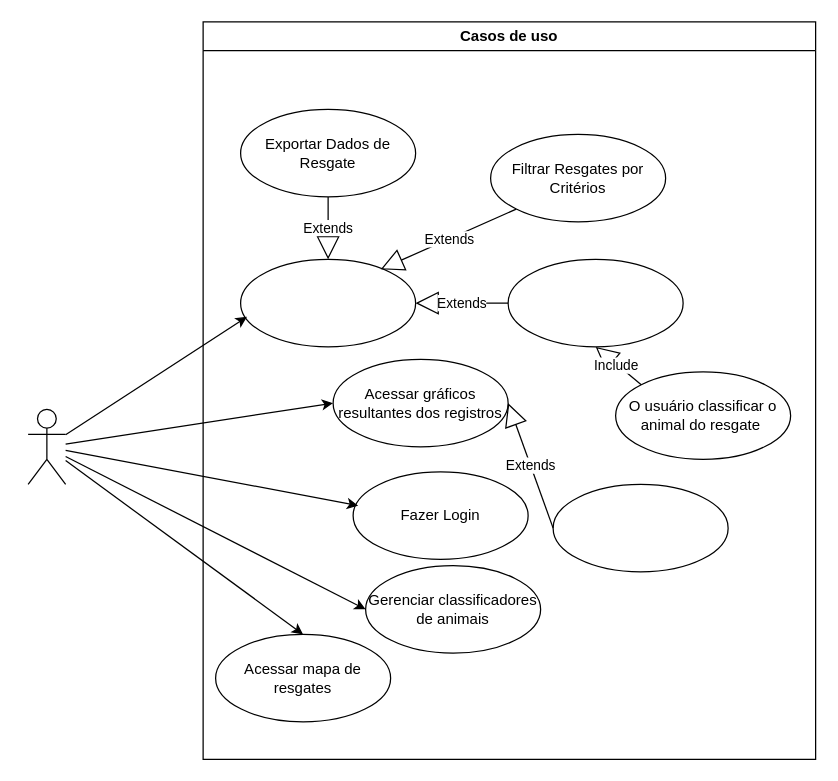
The diagram is 838 pixels wide and 781 high, and some of its shapes have lost their labels. Each missing label, with the centre of its shape:
Biólogo: (46,446)
Emitir relatório: (640,527)
gerenciar registro de resgate: (327,302)
Registrar um resgate: (595,302)
